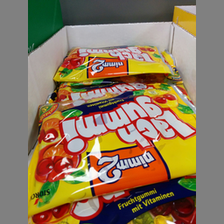candy: (27, 83, 196, 213), (53, 45, 173, 82)
